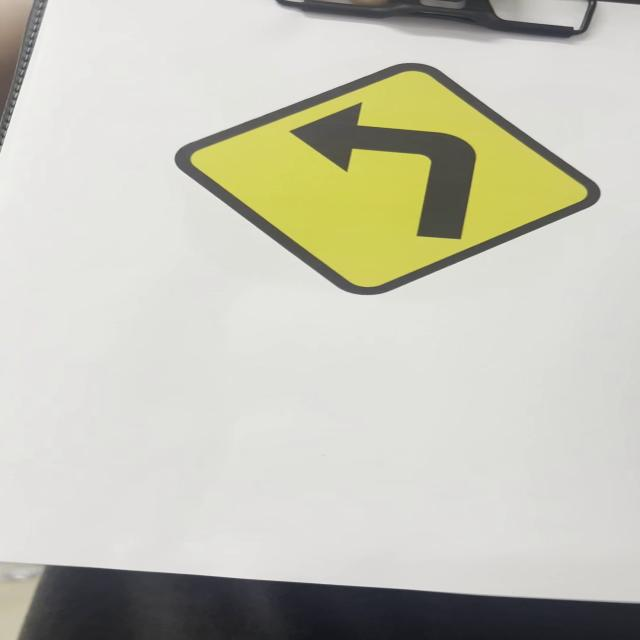left: (175, 64, 607, 297)
